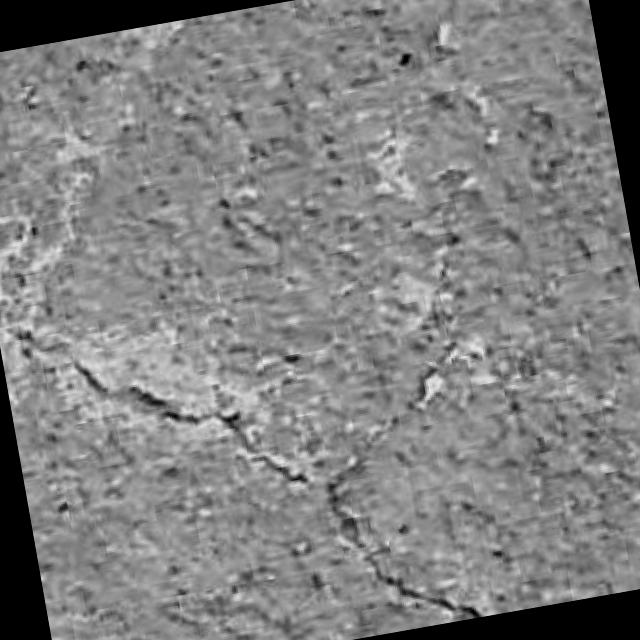crack: (12, 329, 311, 487), (72, 360, 309, 486), (326, 461, 484, 618)
